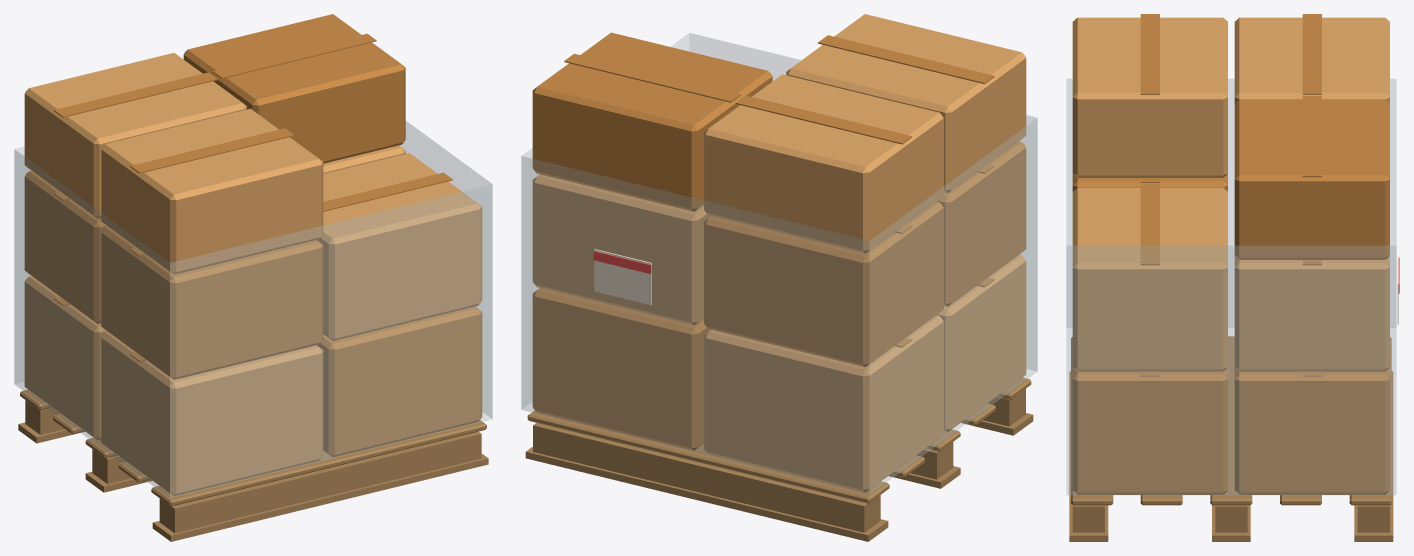
The model's file is sm_env_depot_pallet_wrapped.glb.
3 renders of one model, left to right at view 1: azimuth 30°, elevation 25°; view 2: azimuth 150°, elevation 25°; view 3: azimuth 270°, elevation 25°, orthographic. The views are drawn at different scales.
Parts seen in each view (by area): view 1: FilmShell, Parcel.010, Parcel.002, Parcel.006, Parcel.007, Parcel.009, Parcel.003, Parcel.008, PalletBlock.002, Parcel, Parcel.004, PalletBoard.004 (+8 smaller); view 2: FilmShell, Parcel.008, Parcel, Parcel.004, Parcel.009, Parcel.001, Parcel.010, Parcel.005, PalletBlock, Parcel.002, Parcel.006, PalletBoard (+7 smaller); view 3: FilmShell, Parcel.007, Parcel.009, Parcel.010, Parcel.001, Parcel.003, Parcel.005, Parcel.008, ParcelTape.007, ParcelTape.009, ParcelTape.008, ParcelTape.010 (+12 smaller).
Part boxes in pixels (x1,y1,x2,y2): FilmShell: (14,121,492,497); Parcel.010: (101,108,323,274); Parcel.002: (101,332,323,495); Parcel.006: (101,226,323,379); Parcel.007: (317,153,482,340); Parcel.009: (183,14,405,163); Parcel.003: (317,306,482,457); Parcel.008: (24,53,246,218); PalletBlock.002: (159,431,481,533); Parcel: (24,276,107,439); Parcel.004: (24,170,107,323); PalletBoard.004: (151,420,486,506); FilmShell: (521,33,1037,494); Parcel.008: (704,74,943,253); Parcel: (704,315,943,492); Parcel.004: (704,201,943,366); Parcel.009: (532,32,772,211); Parcel.001: (532,288,710,450); Parcel.010: (786,14,1026,192); Parcel.005: (532,174,710,325); PalletBlock: (533,423,880,532); Parcel.002: (937,255,1026,432); Parcel.006: (937,141,1026,306); PalletBoard: (527,410,889,503); FilmShell: (1066,79,1396,494); Parcel.007: (1072,187,1227,371); Parcel.009: (1234,99,1389,259); Parcel.010: (1072,17,1227,177); Parcel.001: (1234,367,1389,494); Parcel.003: (1072,367,1227,494); Parcel.005: (1234,256,1389,371); Parcel.008: (1234,17,1389,103); ParcelTape.007: (1140,184,1159,265); ParcelTape.009: (1302,96,1321,177); ParcelTape.008: (1302,14,1321,94); ParcelTape.010: (1140,14,1159,94).
Bounding box in the file's own units: 1.22 × 1.24 × 1.03.
